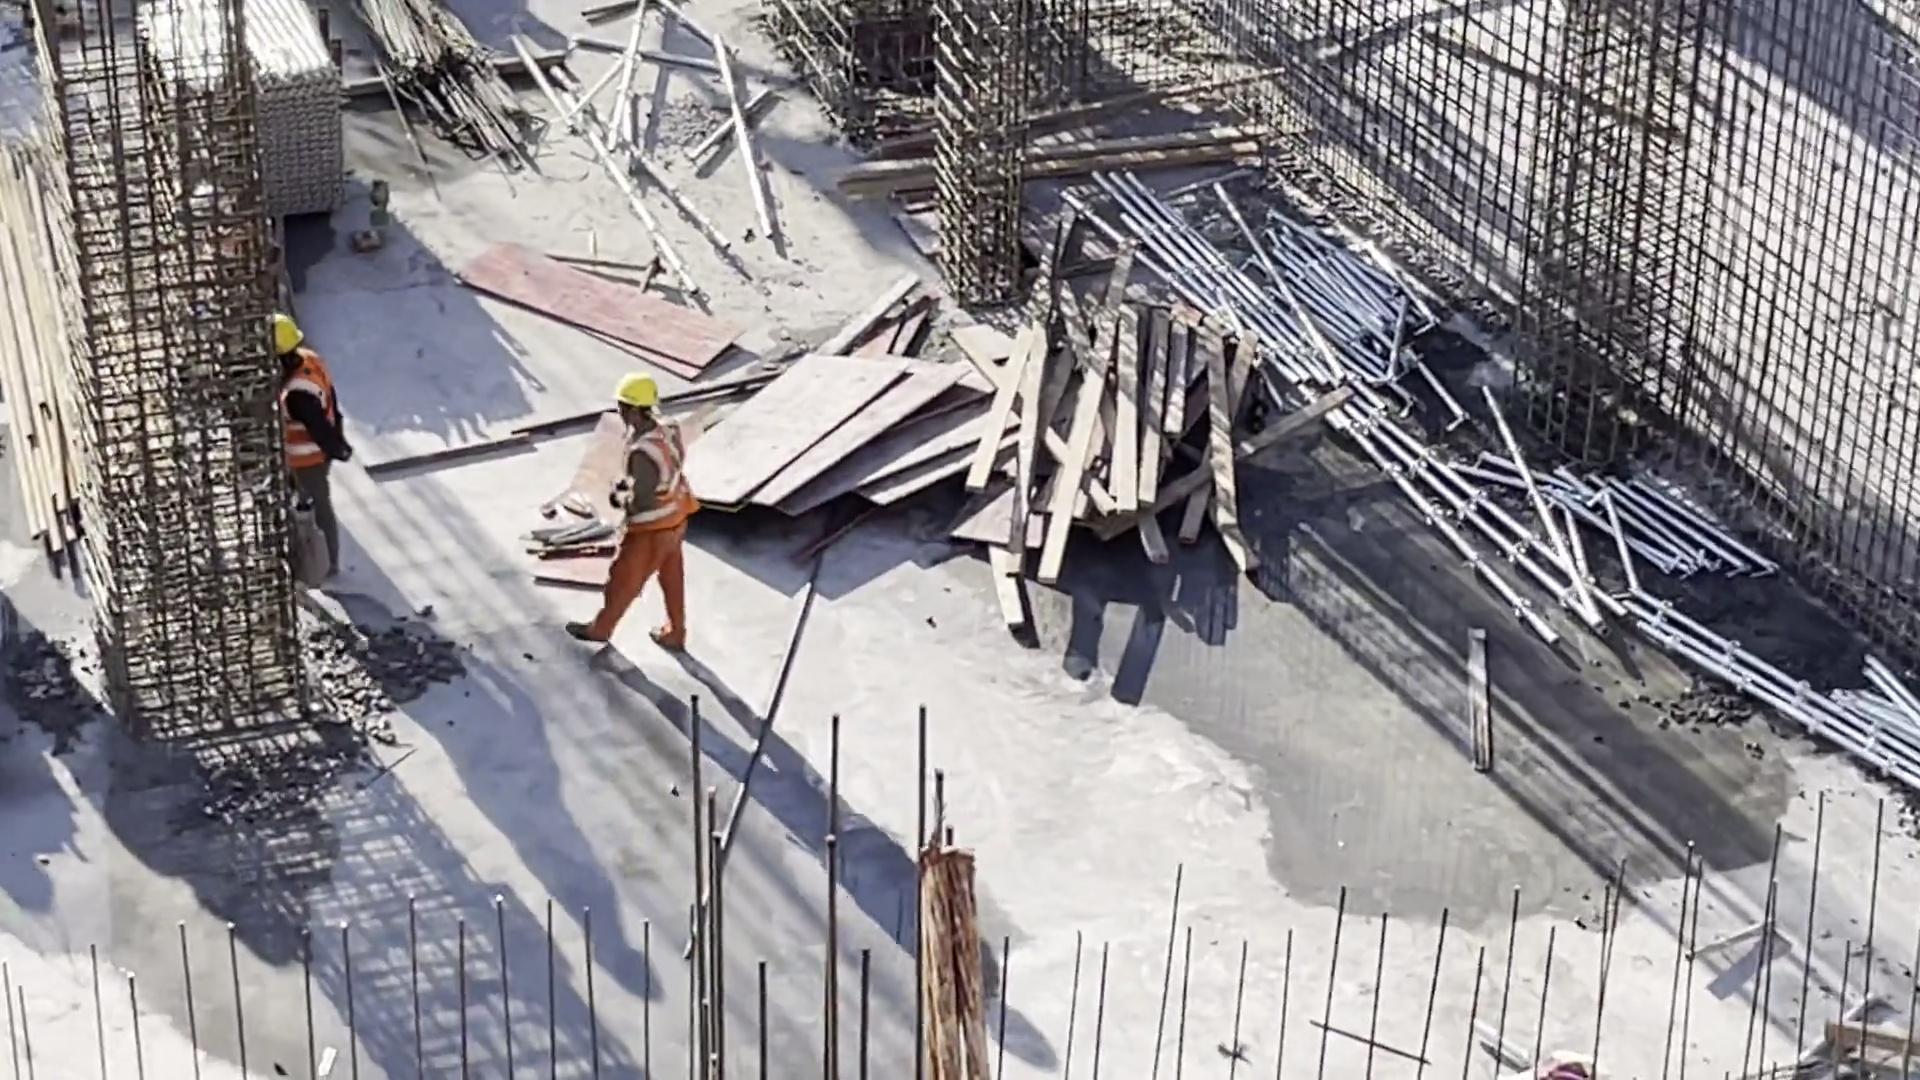helmet: (618, 374, 684, 446), (288, 309, 346, 361)
person: (604, 380, 696, 625), (276, 316, 348, 545)
rebar: (367, 1, 541, 198)
scaffold: (148, 2, 356, 197)
vest: (638, 426, 689, 529)
wood: (936, 316, 1214, 599)
